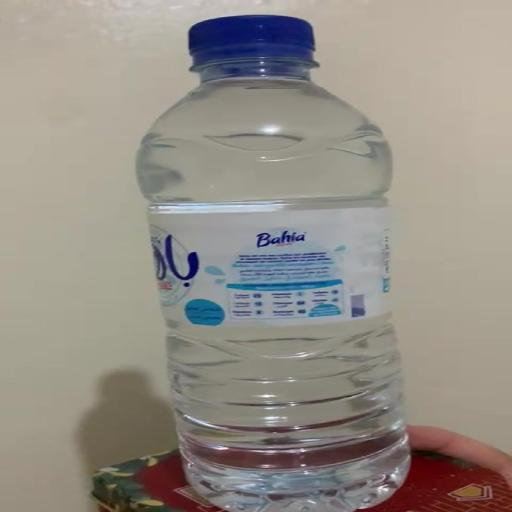bouteille conformite: (133, 9, 431, 512)
